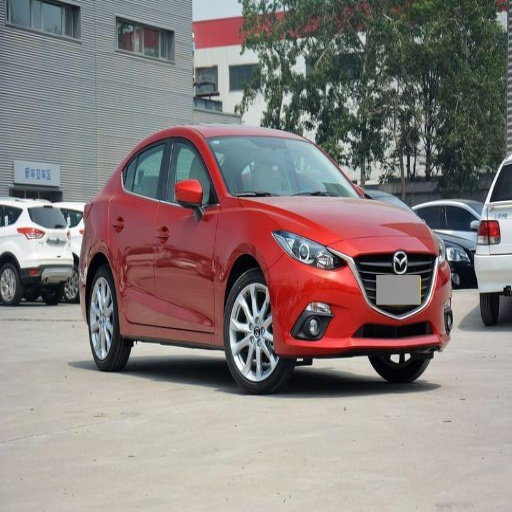back_left_light: (111, 136, 170, 324)
back_right_light: (268, 229, 450, 358)
front_bumper: (209, 136, 368, 198)
front_left_light: (156, 134, 216, 334)
front_right_door: (272, 229, 343, 270)
front_right_light: (240, 194, 430, 246)
trunk: (227, 272, 292, 392), (88, 266, 128, 371), (371, 351, 430, 383)
